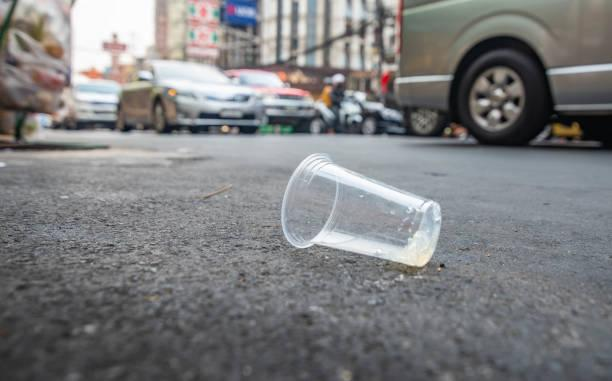trash: (268, 136, 458, 284)
